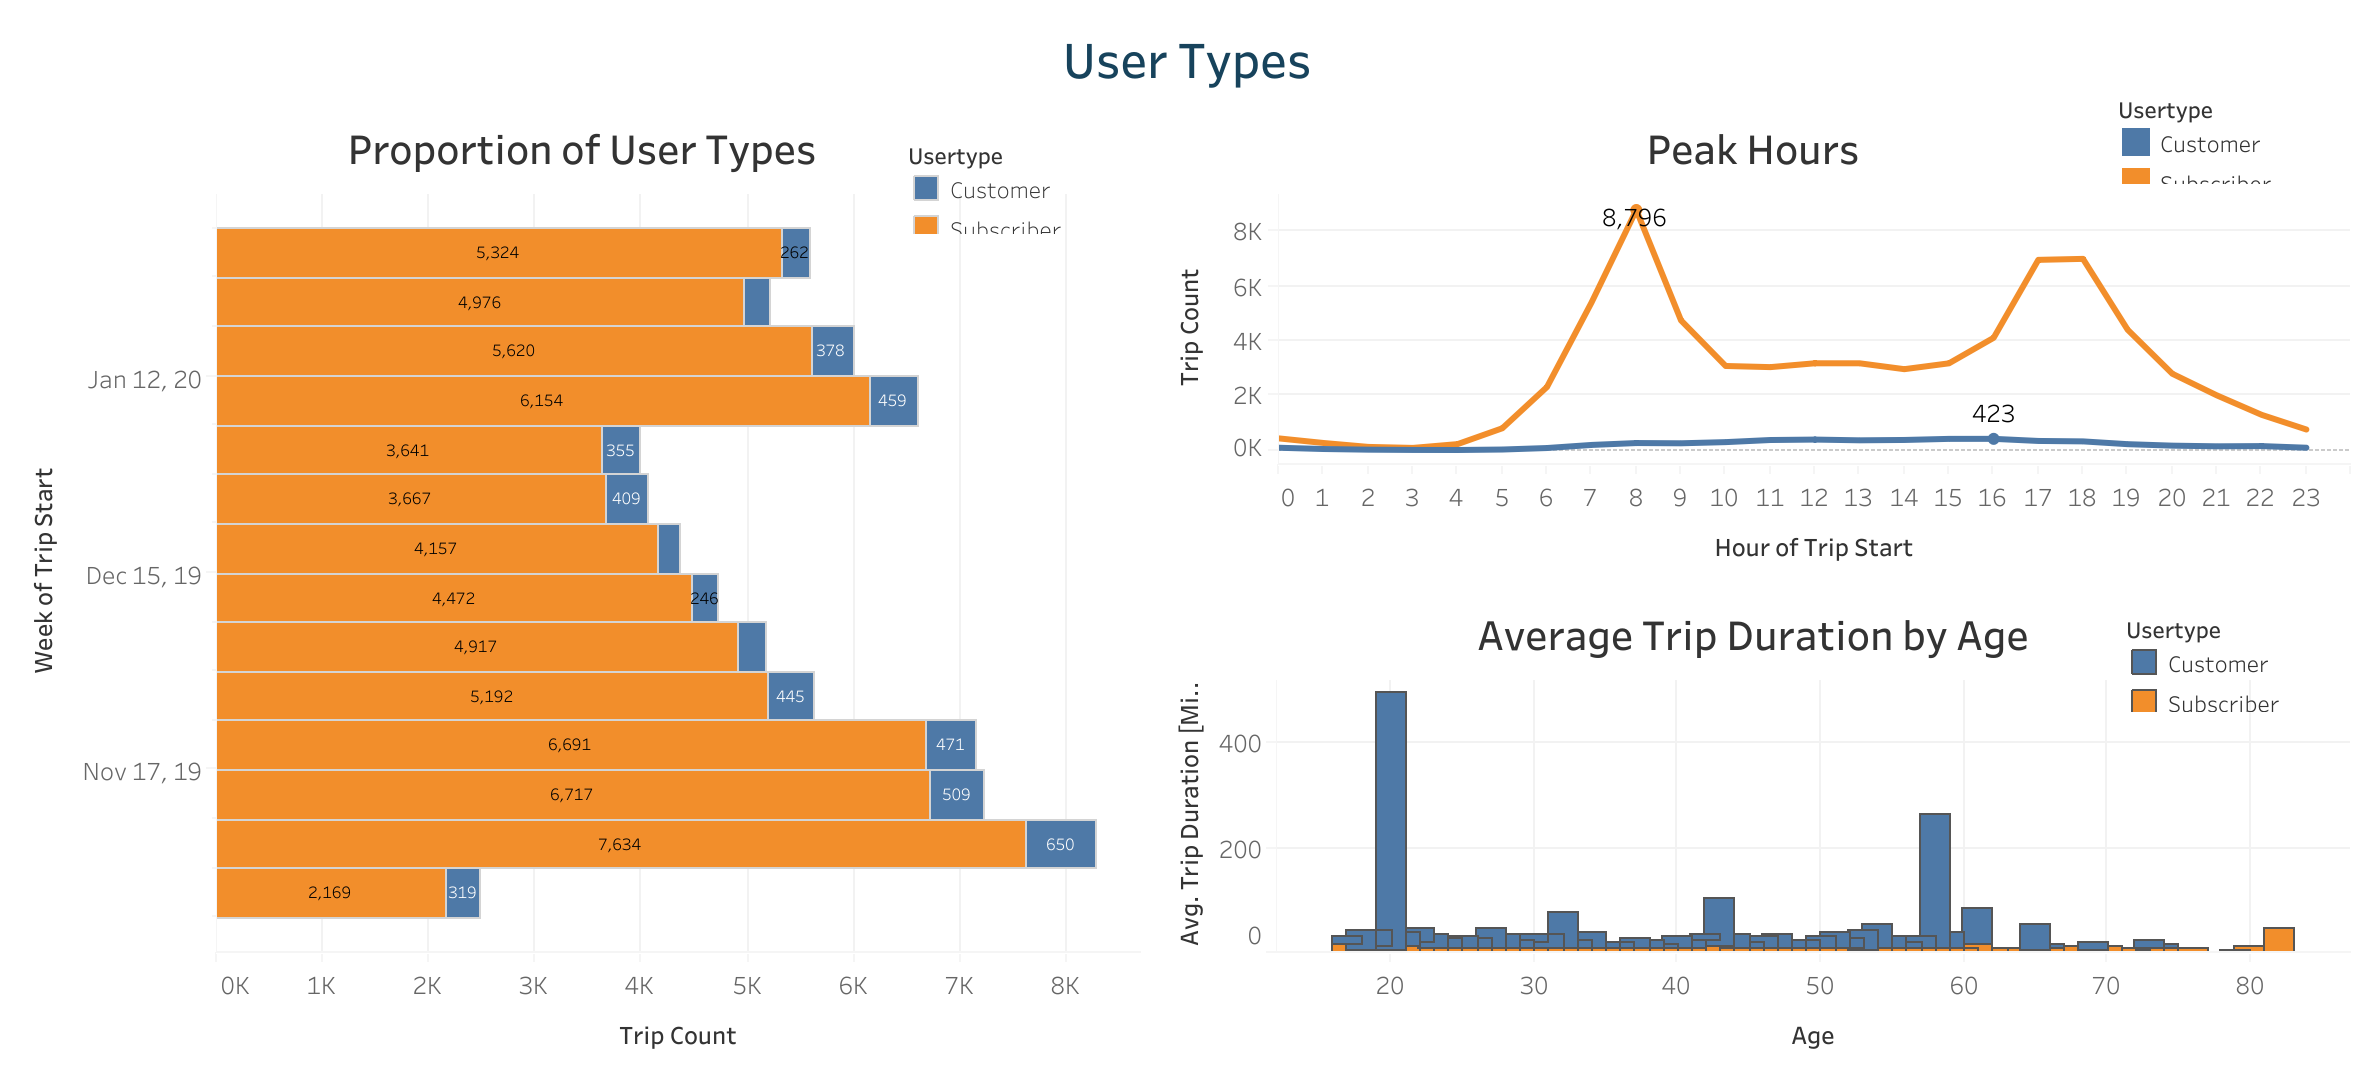

This screenshot's page, from the dashboard's own definition file:
{"tool":"tableau","page":{"name":"User Types, Peak Hours, & Age","canvas":[1000,1000],"units":"permille","ordinal":5},"visuals":[{"type":"title","box":[8.1,12.8,983.8,65.6]},{"type":"worksheet","title":"Proportion of User Types - Count","mark":"Bar","rows":["starttime"],"cols":["Number of Records"],"box":[8.1,78.4,475.4,908.8]},{"type":"worksheet","title":"Peak Hours - User Type","mark":"Automatic","rows":["Number of Records"],"cols":["starttime"],"box":[483.4,78.4,508.4,453.6]},{"type":"legend","title":"Peak Hours - User Type","param":"[federated.0bl1ixe19uang21496f3y0pw2axb].[none:usertype:nk]","box":[891.7,83.2,99.2,86.4]},{"type":"legend","title":"Proportion of User Types - Count","param":"[federated.0bl1ixe19uang21496f3y0pw2axb].[none:usertype:nk]","box":[381.3,124.8,94.4,89.6]},{"type":"worksheet","title":"Average Trip Duration (Minutes) by Age (2)","mark":"Bar","rows":["Calculation_6063252495943892994"],"cols":["Calculation_6063252495944384516"],"box":[483.4,532,508.4,455.2]},{"type":"legend","title":"Average Trip Duration (Minutes) by Age (2)","param":"[federated.0bl1ixe19uang21496f3y0pw2axb].[none:usertype:nk]","box":[894.9,560,94.4,92.8]}]}

Visuals, with their boxes on the dashboard's canvas, which has no fixed pixel size, in thousandths of its width and height (x1, y1, x2, y2). These are canvas units, not pixel positions in the 2372x1088 screenshot, which may show the page scaled, cropped or inside an application window:
title: 8 13 992 78
"Proportion of User Types - Count" worksheet (Bar marks): 8 78 484 987
"Peak Hours - User Type" worksheet: 483 78 992 532
"Peak Hours - User Type" legend: 892 83 991 170
"Proportion of User Types - Count" legend: 381 125 476 214
"Average Trip Duration (Minutes) by Age (2)" worksheet (Bar marks): 483 532 992 987
"Average Trip Duration (Minutes) by Age (2)" legend: 895 560 989 653
